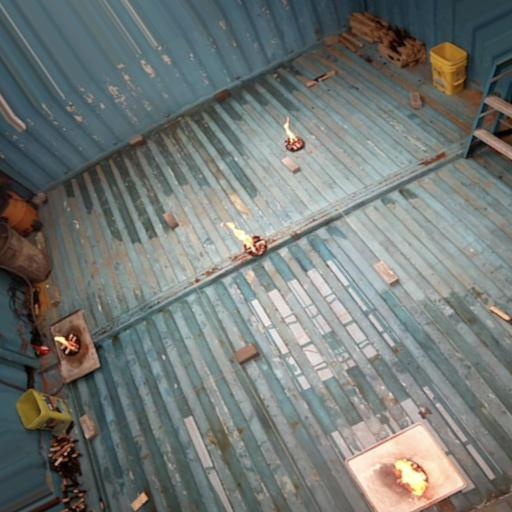Fire: (393, 459, 428, 497), (223, 221, 256, 250), (282, 118, 297, 143), (54, 337, 70, 346)
